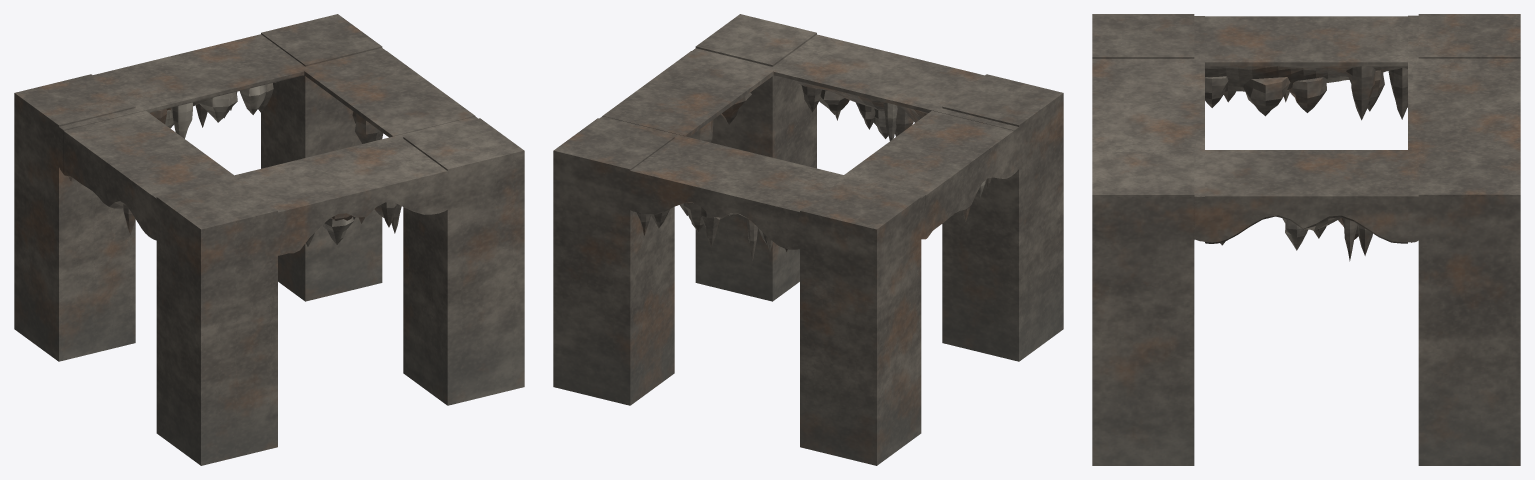
Rendered from dungeon_cave_open_vault.glb.
The picture shows the model from 3 angles, left to right: view 1: azimuth 30°, elevation 25°; view 2: azimuth 150°, elevation 25°; view 3: azimuth 270°, elevation 25°; orthographic projection. The views are drawn at different scales.
Parts seen in each view (by area): view 1: dungeon_cave_open_vault; view 2: dungeon_cave_open_vault; view 3: dungeon_cave_open_vault.
Part boxes in pixels (left/top/right/bottom): dungeon_cave_open_vault: left=14, top=14, right=524, bottom=465; dungeon_cave_open_vault: left=553, top=14, right=1063, bottom=465; dungeon_cave_open_vault: left=1092, top=14, right=1520, bottom=465.
Bounding box in the file's own units: 5 × 3.5 × 5.
Materials: 1 (1 with a texture image).
